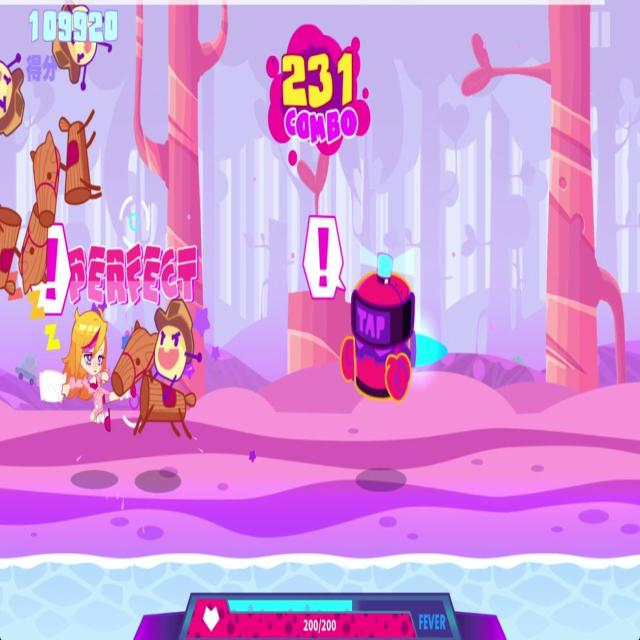qiu: (113, 288, 198, 450)
tapboss: (340, 243, 434, 410)
